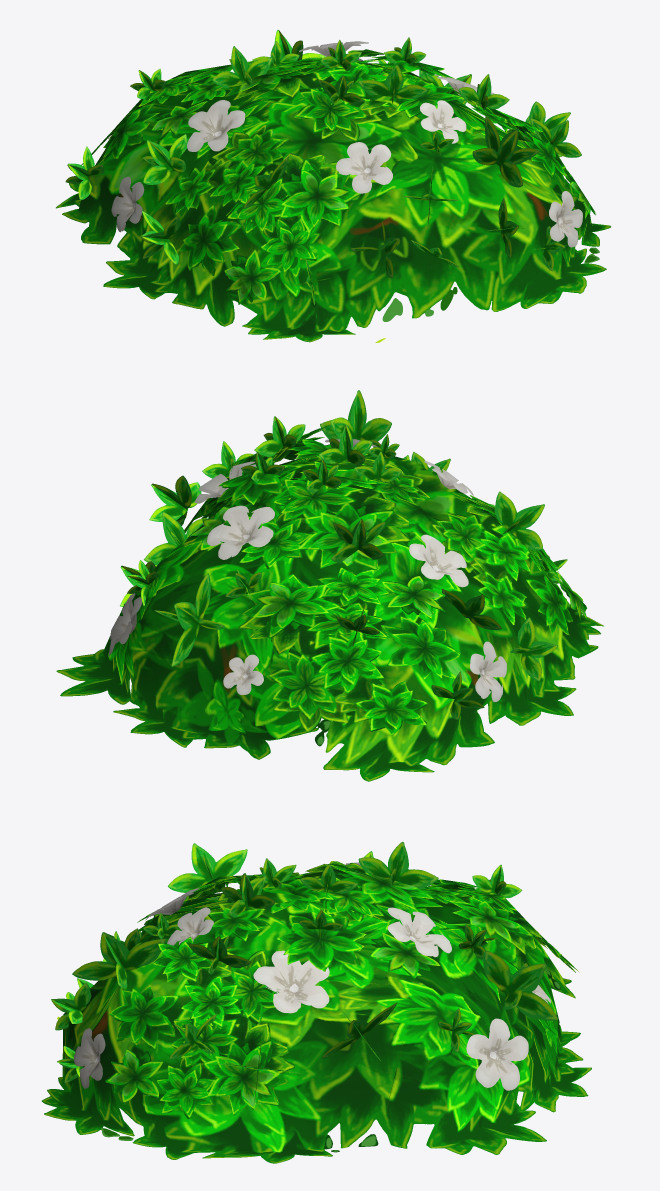
The model's file is arbusto_flor.fbx.
3 renders of one model, top to bottom at view 1: azimuth 30°, elevation 25°; view 2: azimuth 150°, elevation 25°; view 3: azimuth 270°, elevation 25°, orthographic. The views are drawn at different scales.
Parts seen in each view (by area): view 1: arbusto_flor; view 2: arbusto_flor; view 3: arbusto_flor.
Boxes of the visible parts, x1,y1,x2,y2 form: arbusto_flor: (56,30,611,342); arbusto_flor: (56,390,603,781); arbusto_flor: (41,842,591,1163).
Size of the model in its own units: 1140 by 449 by 1203.
1 material, 1 textured.
